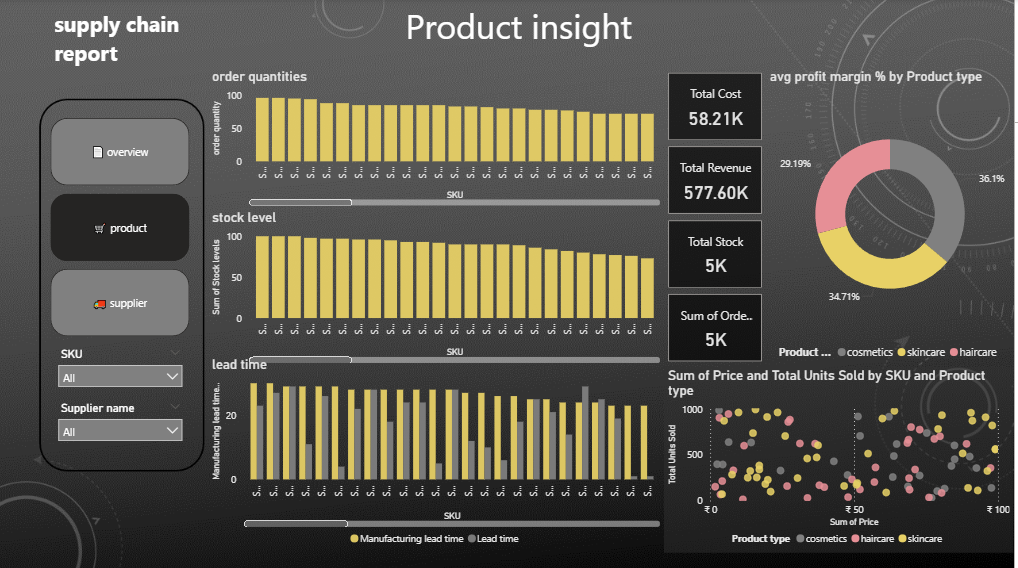

Layout of this report page (visuals, bound fields, positions):
{"tool":"powerbi","page":{"name":"🛒 product","canvas":[1280,720],"ordinal":1},"visuals":[{"type":"columnChart","title":"order quantities","fields":{"Y":["supply_chain_data.order quantity"],"Category":["supply_chain_data.SKU"]},"box":[264.6,88.8,574.5,177.6],"z":0},{"type":"pageNavigator","box":[66.1,151.1,175.7,275.9],"z":0,"group":"g1"},{"type":"textbox","box":[66.1,9.4,175.7,103.9],"z":1000,"group":"g1"},{"type":"columnChart","title":"stock level","fields":{"Category":["supply_chain_data.SKU"],"Y":["Sum(supply_chain_data.Stock levels)"]},"box":[264.6,266.5,574.5,198.4],"z":1000},{"type":"slicer","fields":{"Values":["supply_chain_data.SKU"]},"box":[66.1,434.6,175.7,136.1],"z":2000,"group":"g1"},{"type":"clusteredColumnChart","title":"lead time","fields":{"Category":["supply_chain_data.SKU"],"Y":["Sum(supply_chain_data.Manufacturing lead time)","Sum(supply_chain_data.Lead time)"]},"box":[264.6,451.7,574.5,247.6],"z":2000},{"type":"cardVisual","fields":{"Data":["supply_chain_data.Total Cost","supply_chain_data.Total Revenue","supply_chain_data.Total Stock","Sum(supply_chain_data.Order quantities)"]},"box":[839.1,88.8,128.5,378],"z":3000},{"type":"slicer","fields":{"Values":["supply_chain_data.Supplier name"]},"box":[66.1,502.6,175.7,136.1],"z":3000,"group":"g1"},{"type":"donutChart","fields":{"Category":["supply_chain_data.Product type"],"Y":["supply_chain_data.avg profit margin %"]},"box":[967.6,88.8,311.8,376.1],"z":4000},{"type":"scatterChart","fields":{"X":["Sum(supply_chain_data.Price)"],"Y":["supply_chain_data.Total Units Sold"],"Category":["supply_chain_data.SKU"],"Series":["supply_chain_data.Product type"]},"box":[839.1,464.9,440.3,234.3],"z":5000},{"type":"textbox","box":[508.4,0,419.5,75.6],"z":6000},{"type":"group","id":"g1","title":"Group 1","box":[66.1,9.4,175.7,629.3],"z":7000}]}

Visuals, with their boxes in screenshot pixels (x1, y1, x2, y2), scaled from the page's 1280x720 canvas onto the 1018x568 screenshot:
"order quantities" columnChart: [210, 70, 667, 210]
pageNavigator: [53, 119, 192, 337]
textbox: [53, 7, 192, 89]
"stock level" columnChart: [210, 210, 667, 367]
slicer - supply_chain_data.SKU: [53, 343, 192, 450]
"lead time" clusteredColumnChart: [210, 356, 667, 552]
cardVisual - supply_chain_data.Total Cost x supply_chain_data.Total Revenue: [667, 70, 770, 368]
slicer - supply_chain_data.Supplier name: [53, 396, 192, 504]
donutChart - supply_chain_data.Product type x supply_chain_data.avg profit margin %: [770, 70, 1017, 367]
scatterChart - Sum(supply_chain_data.Price) x supply_chain_data.Total Units Sold: [667, 367, 1017, 552]
textbox: [404, 0, 738, 60]
"Group 1" group: [53, 7, 192, 504]
